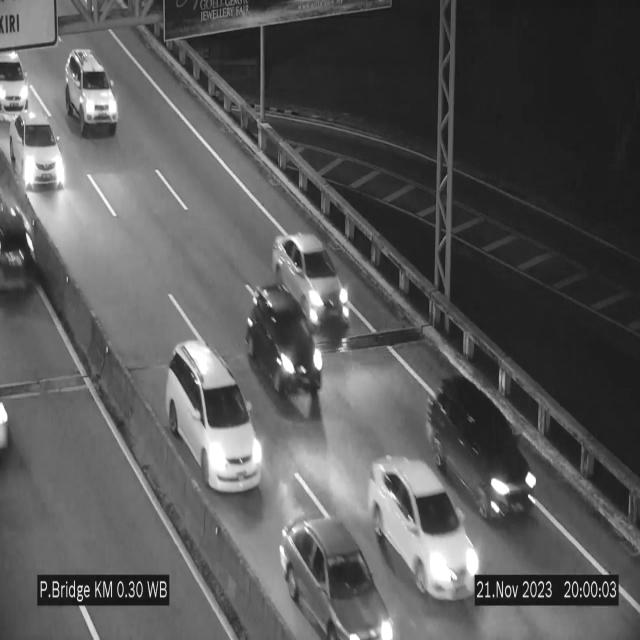Car: (370, 456, 480, 600), (431, 377, 533, 531), (280, 510, 400, 640), (166, 341, 264, 493), (248, 290, 326, 410), (273, 233, 351, 333), (7, 105, 71, 195), (0, 192, 40, 314), (65, 49, 119, 135), (0, 32, 38, 125)
